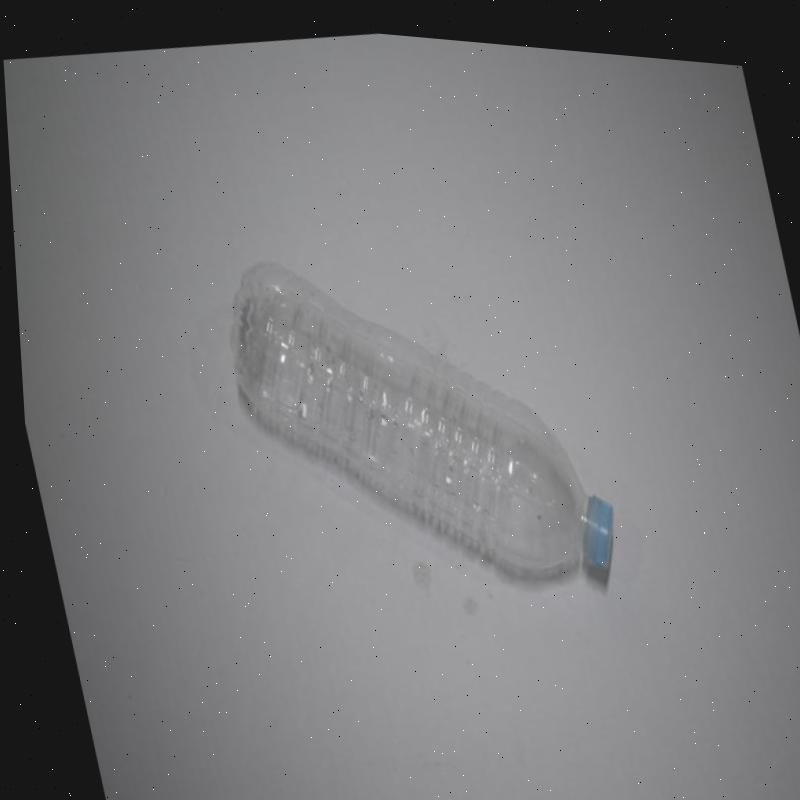botella: (205, 202, 621, 609)
